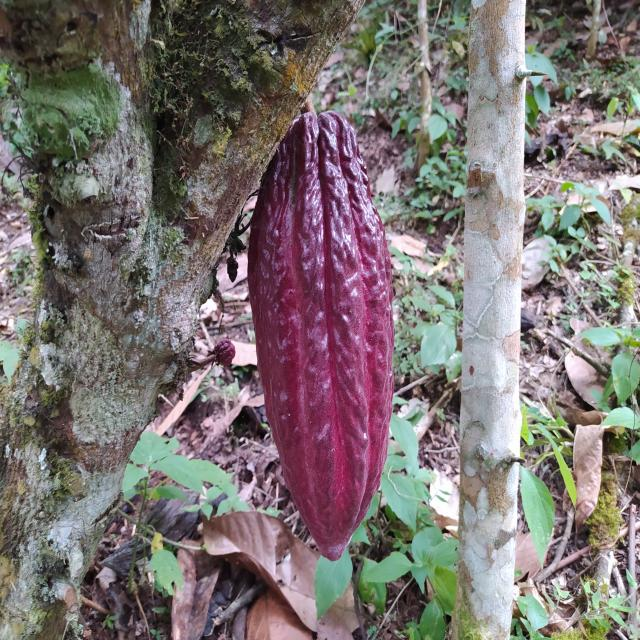Sana: (248, 102, 394, 562)
